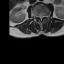CCS_normal: (40, 13, 42, 22)
LFS_stenosis: (43, 13, 46, 18)
LLS_stenosis: (42, 13, 43, 19)
RFS_stenosis: (36, 13, 38, 18)
RLS_normal: (38, 13, 40, 19)
